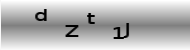1: (111, 26, 125, 40)
J: (122, 22, 131, 39)
Z: (64, 24, 79, 38)
d: (34, 7, 48, 22)
t: (85, 12, 96, 25)
